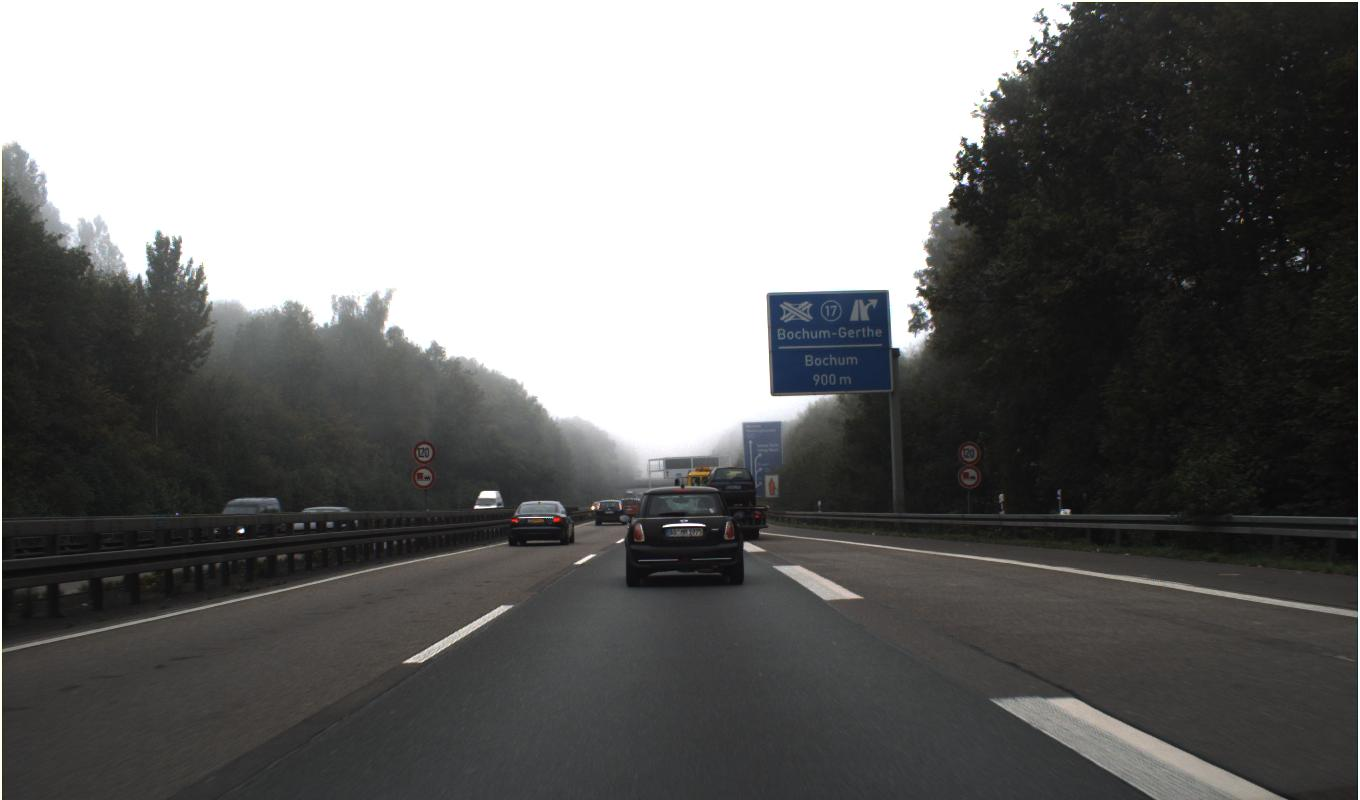prohibitory: (956, 464, 982, 490), (410, 464, 436, 490), (956, 440, 981, 464), (412, 440, 436, 464)
